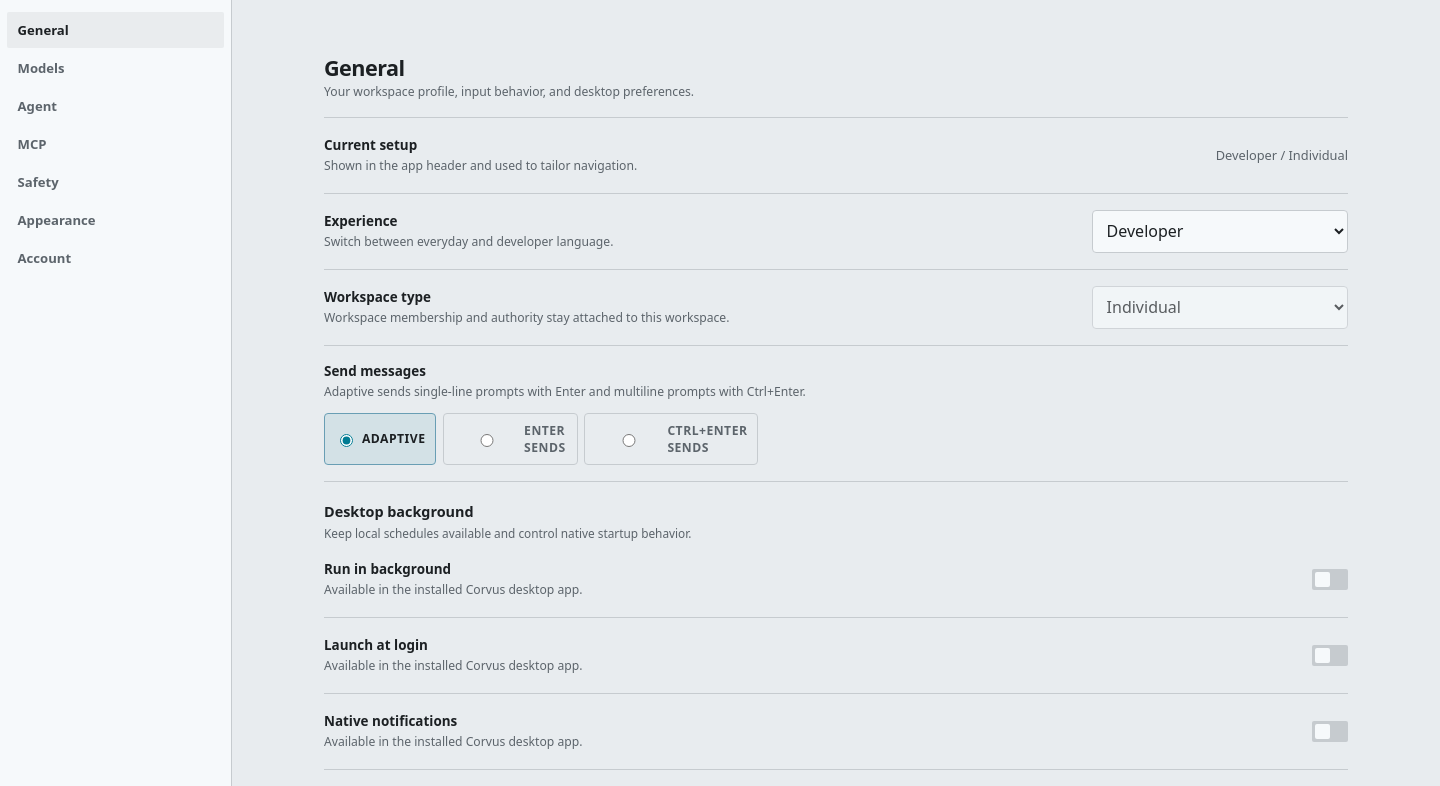
Scenario: SettingsPanel › does not commit the workspace profile when runtime settings fail to save
Select "Everyday" in the dropdown named "Experience" at (1220, 231), box [1092,210,1348,253]
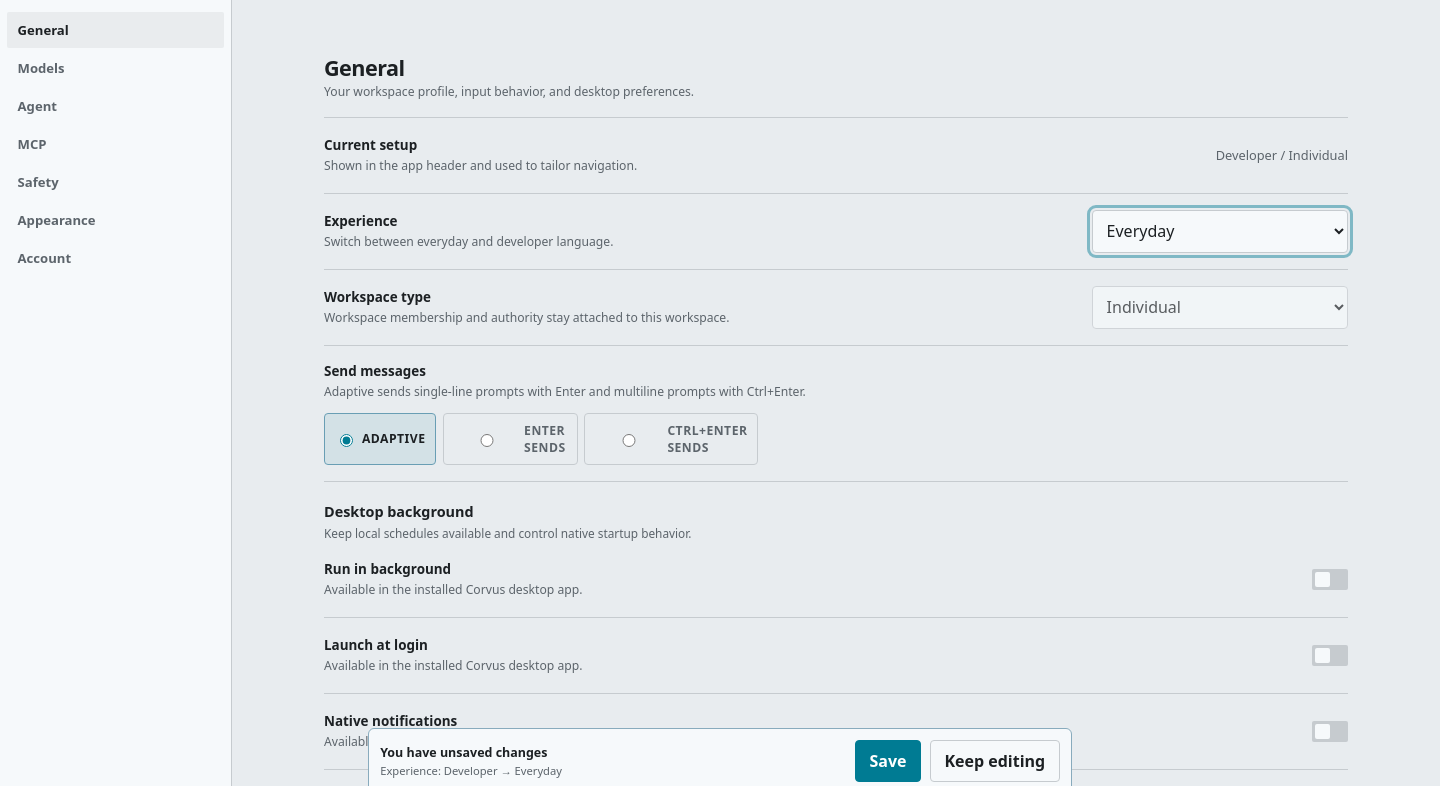
Click the button "Agent" at (116, 106), box [7,88,224,124]
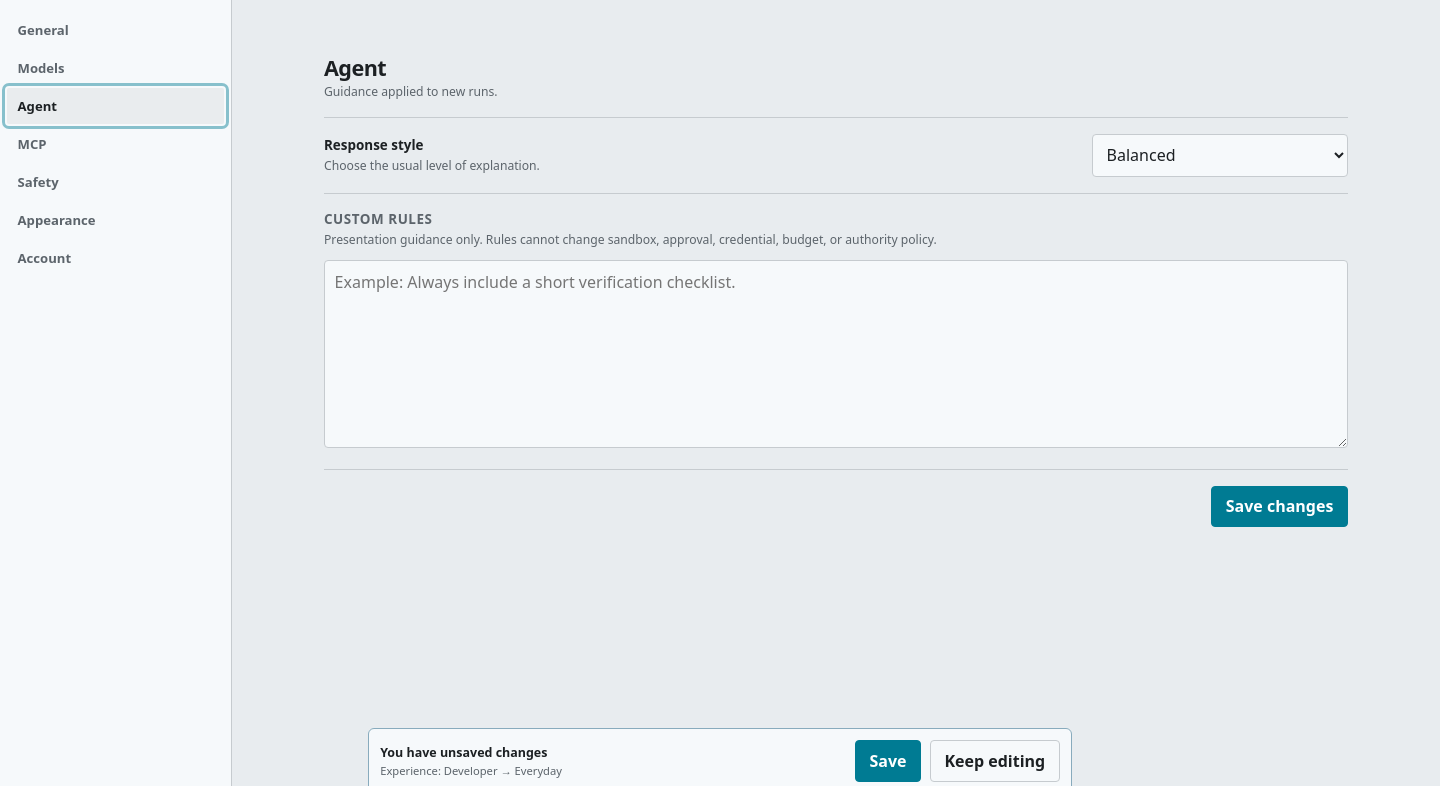
Select "Concise" in the dropdown named "Response style" at (1220, 155), box [1092,134,1348,177]
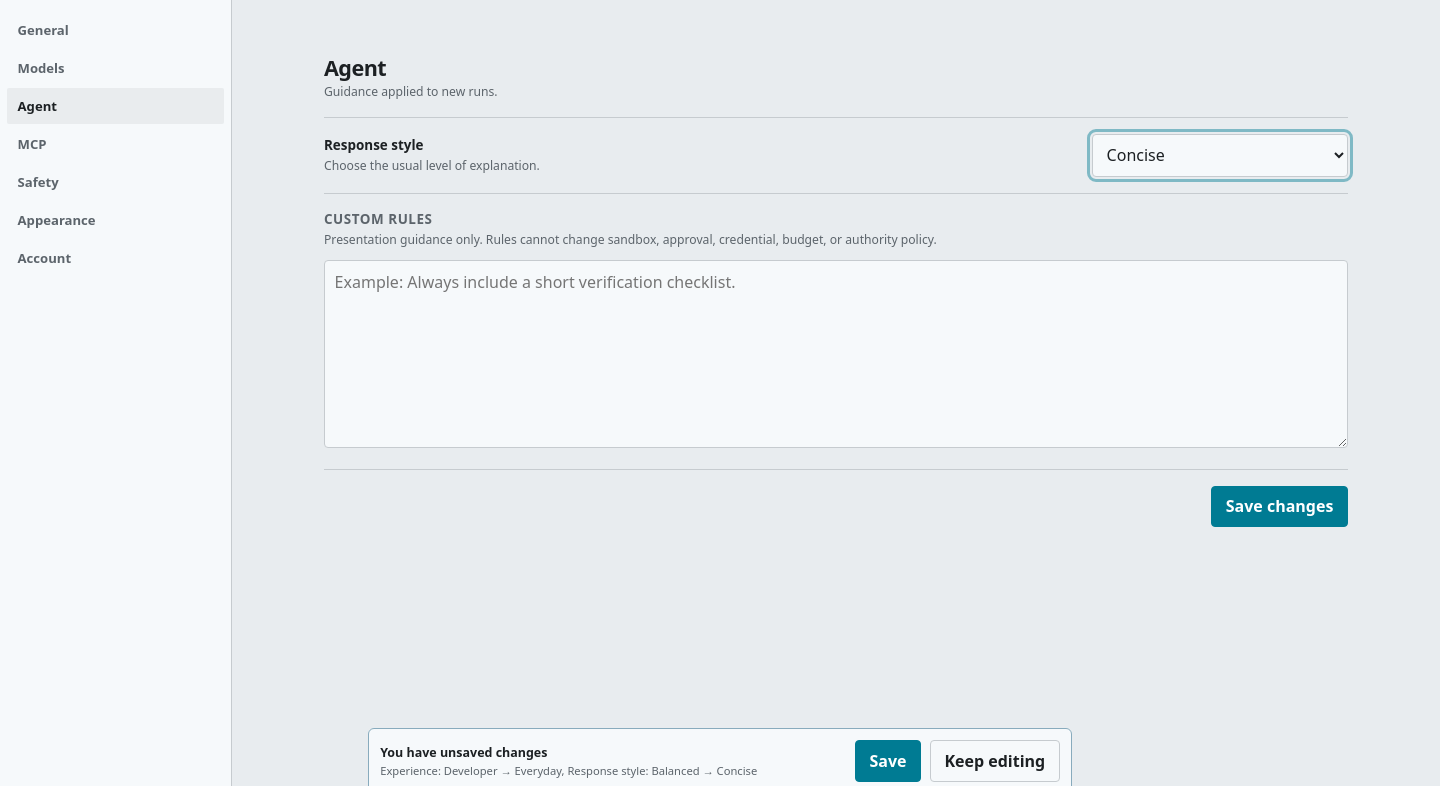
Click the button "Save" at (888, 761), box [855,740,921,782]
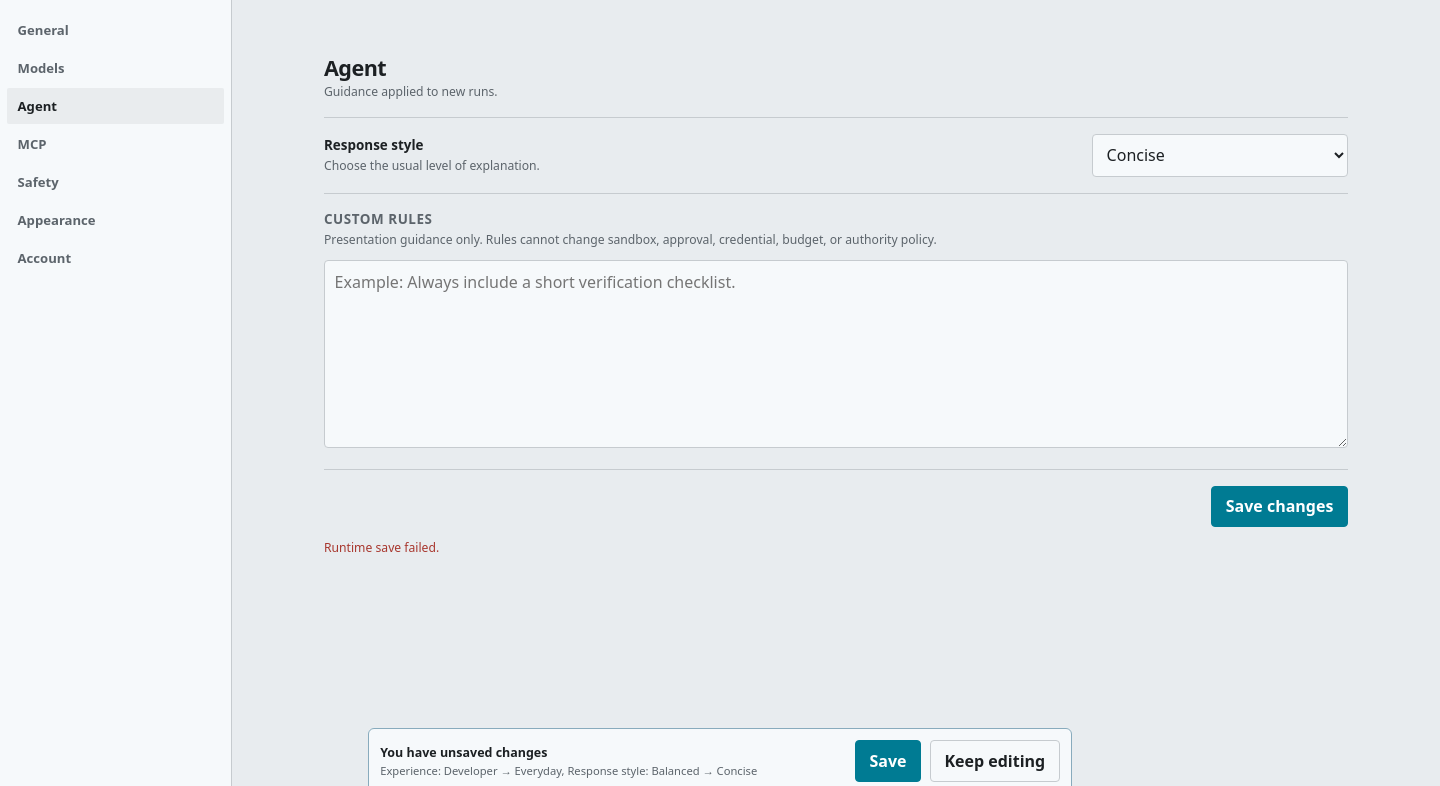
expect the message shows "Runtime save failed": met, box [324,539,439,556]
